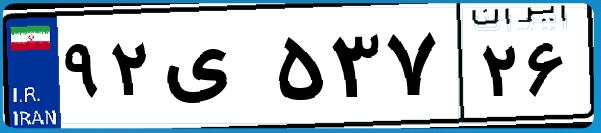2: (475, 38, 525, 113), (110, 28, 158, 98)
3: (330, 28, 385, 110)
5: (270, 28, 330, 110)
6: (525, 38, 570, 115)
7: (385, 28, 445, 110)
9: (57, 26, 110, 100)
ی: (158, 20, 270, 120)
